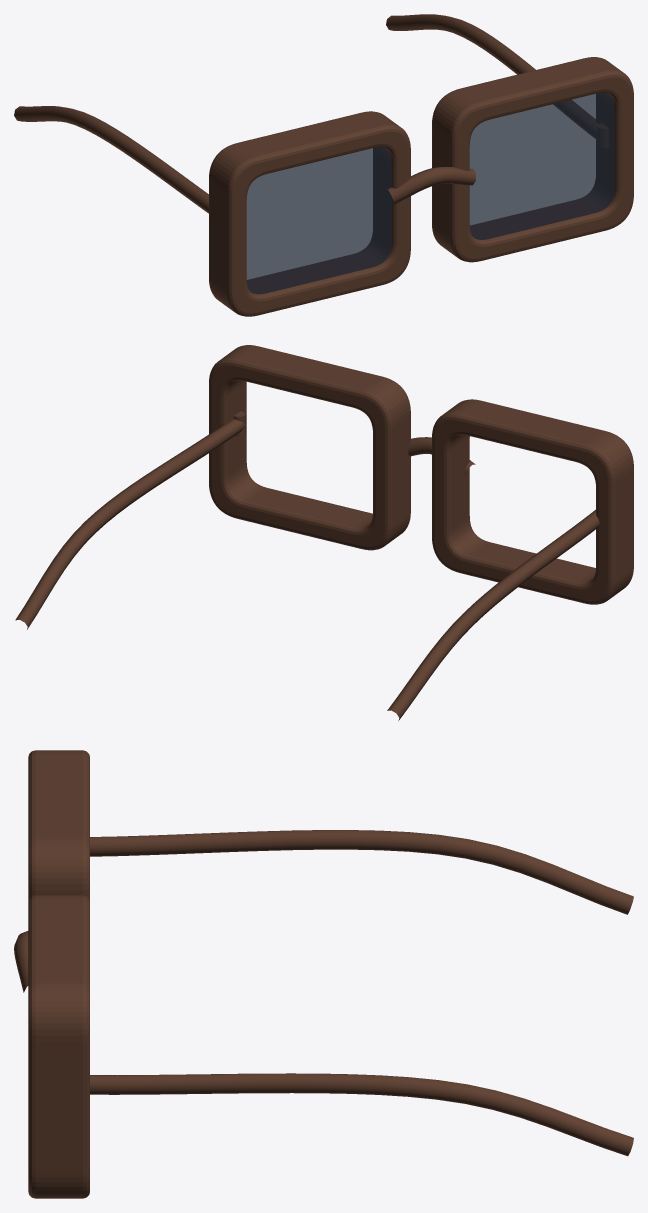
Rendered from classic-brown.glb.
3 renders of one model, top to bottom at view 1: azimuth 30°, elevation 25°; view 2: azimuth 150°, elevation 25°; view 3: azimuth 270°, elevation 25°, orthographic. The views are drawn at different scales.
Visible parts, largest first — view 1: LeftRim_FrameMesh, RightRim_FrameMesh, LeftLens, RightLens, LeftTemple_FrameMesh, RightTemple_FrameMesh, Bridge_FrameMesh; view 2: RightRim_FrameMesh, LeftRim_FrameMesh, RightTemple_FrameMesh, LeftTemple_FrameMesh; view 3: RightRim_FrameMesh, RightTemple_FrameMesh, LeftTemple_FrameMesh, LeftRim_FrameMesh, Bridge_FrameMesh.
Part boxes in pixels (bbox=[...]): LeftRim_FrameMesh: bbox=[209, 111, 410, 316]; RightRim_FrameMesh: bbox=[432, 57, 633, 262]; LeftLens: bbox=[246, 147, 391, 294]; RightLens: bbox=[469, 92, 614, 239]; LeftTemple_FrameMesh: bbox=[14, 106, 208, 213]; RightTemple_FrameMesh: bbox=[386, 14, 597, 139]; Bridge_FrameMesh: bbox=[387, 167, 475, 204]; RightRim_FrameMesh: bbox=[209, 345, 410, 550]; LeftRim_FrameMesh: bbox=[432, 399, 633, 604]; RightTemple_FrameMesh: bbox=[15, 419, 245, 629]; LeftTemple_FrameMesh: bbox=[387, 509, 599, 720]; RightRim_FrameMesh: bbox=[28, 895, 89, 1198]; RightTemple_FrameMesh: bbox=[90, 1073, 633, 1156]; LeftTemple_FrameMesh: bbox=[90, 830, 633, 914]; LeftRim_FrameMesh: bbox=[28, 750, 89, 901]; Bridge_FrameMesh: bbox=[14, 931, 28, 992].
Bounding box in the file's own units: 131 × 49 × 130.
